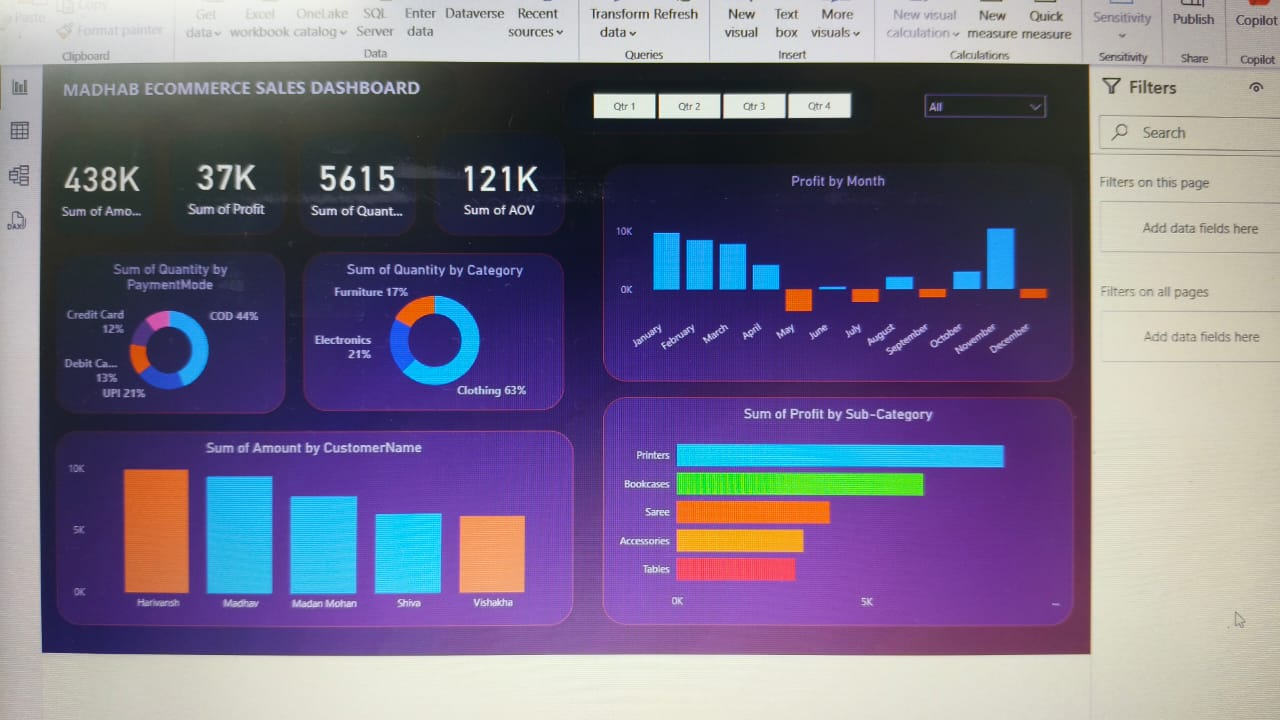

This screenshot's page, from the dashboard's own definition file:
{"tool":"powerbi","page":{"name":"Page 1","canvas":[1280,720],"ordinal":0},"visuals":[{"type":"textbox","box":[11,1.4,500.9,64.5],"z":0},{"type":"columnChart","title":"Profit by Month","fields":{"Y":["Details.Profit"],"Category":["Orders.Order Date.Variation.Date Hierarchy.Month"]},"box":[686.1,123.5,572.2,264.8],"z":1000},{"type":"clusteredBarChart","fields":{"Category":["Details.Sub-Category"],"Y":["Details.Profit"]},"box":[686.1,407.5,572.2,277.2],"z":2000},{"type":"donutChart","fields":{"Category":["Details.Category"],"Y":["Details.Quantity"]},"box":[323.8,231.9,314.2,192.1],"z":3000},{"type":"donutChart","fields":{"Category":["Details.PaymentMode","Details.Category"],"Y":["Details.Quantity"]},"box":[20.6,231.9,281.3,194.9],"z":4000},{"type":"card","fields":{"Values":["Details.Amount"]},"box":[10.9,84.5,131.5,126.7],"z":5000},{"type":"card","fields":{"Values":["Details.Quantity"]},"box":[318.5,84.5,139.9,126.7],"z":6000},{"type":"card","fields":{"Values":["Details.Profit"]},"box":[159.3,84.5,142.4,125.5],"z":7000},{"type":"card","fields":{"Values":["Details.AOV"]},"box":[480.2,83.2,159.3,126.7],"z":8000},{"type":"columnChart","fields":{"Y":["Details.Amount"],"Category":["Orders.CustomerName"]},"box":[20.6,448.7,629.8,236],"z":9000},{"type":"slicer","fields":{"Values":["Orders.Order Date.Variation.Date Hierarchy.Quarter"]},"box":[638.1,20.6,384.2,64.5],"z":10000},{"type":"slicer","fields":{"Values":["Orders.State"]},"box":[1058,19.2,188,64.5],"z":11000}]}

Visuals, with their boxes on the page's 1280x720 design canvas (x1, y1, x2, y2). These are canvas units, not pixel positions in the 1280x720 screenshot, which may show the page scaled, cropped or inside an application window:
textbox: bbox=[11, 1, 512, 66]
"Profit by Month" columnChart: bbox=[686, 124, 1258, 388]
clusteredBarChart - Details.Sub-Category x Details.Profit: bbox=[686, 408, 1258, 685]
donutChart - Details.Category x Details.Quantity: bbox=[324, 232, 638, 424]
donutChart - Details.PaymentMode x Details.Category: bbox=[21, 232, 302, 427]
card - Details.Amount: bbox=[11, 84, 142, 211]
card - Details.Quantity: bbox=[318, 84, 458, 211]
card - Details.Profit: bbox=[159, 84, 302, 210]
card - Details.AOV: bbox=[480, 83, 640, 210]
columnChart - Details.Amount x Orders.CustomerName: bbox=[21, 449, 650, 685]
slicer - Orders.Order Date.Variation.Date Hierarchy.Quarter: bbox=[638, 21, 1022, 85]
slicer - Orders.State: bbox=[1058, 19, 1246, 84]
